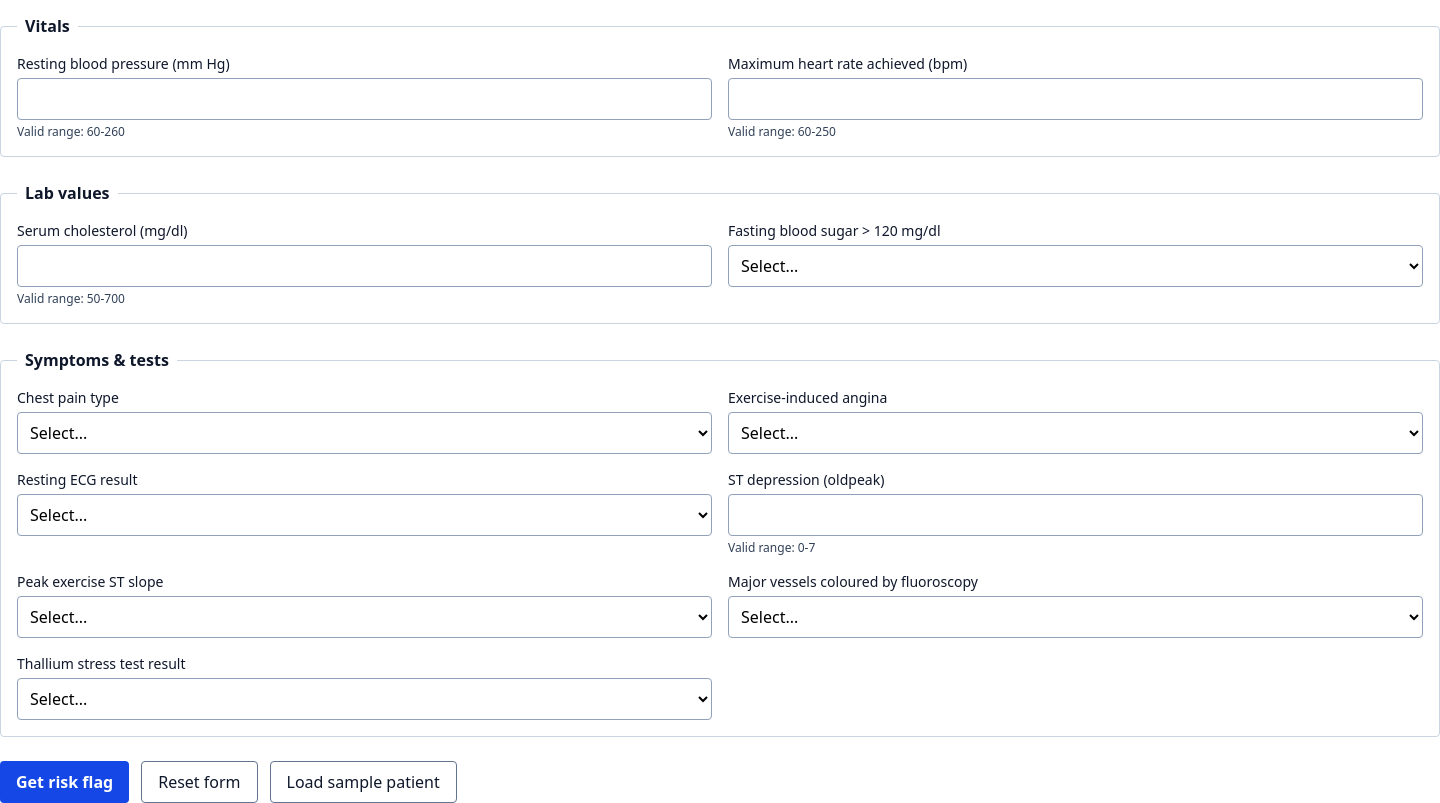
Scenario: ScorePage › when a value changes after submitting › shows the new result, without the hint, after submitting again
(page scrolled)
Click the button "Load sample patient". click: (363, 782)
box: [270,761,457,802]
(page scrolled)
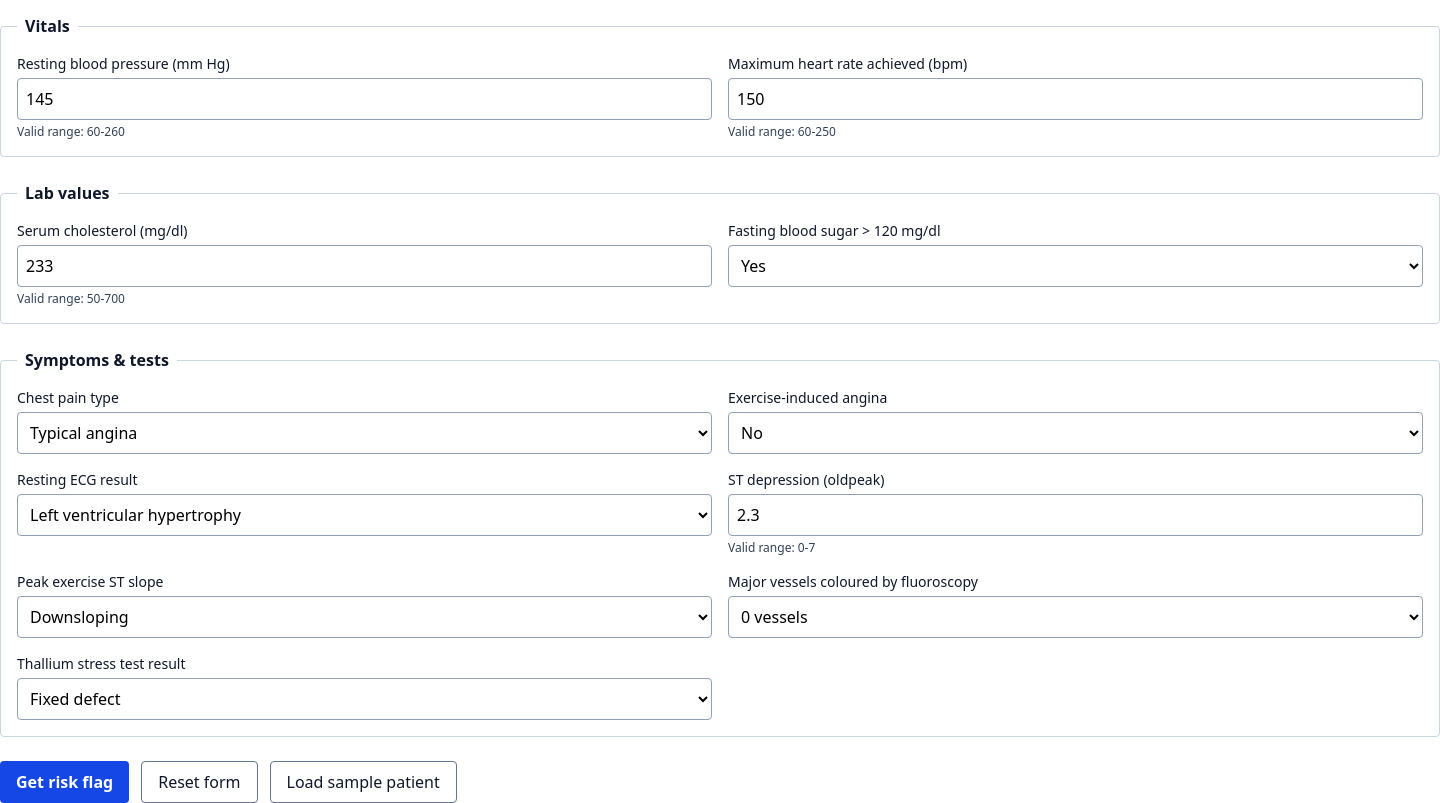
Click the button "Get risk flag". click: (65, 782)
box: [0,761,129,802]
(page scrolled)
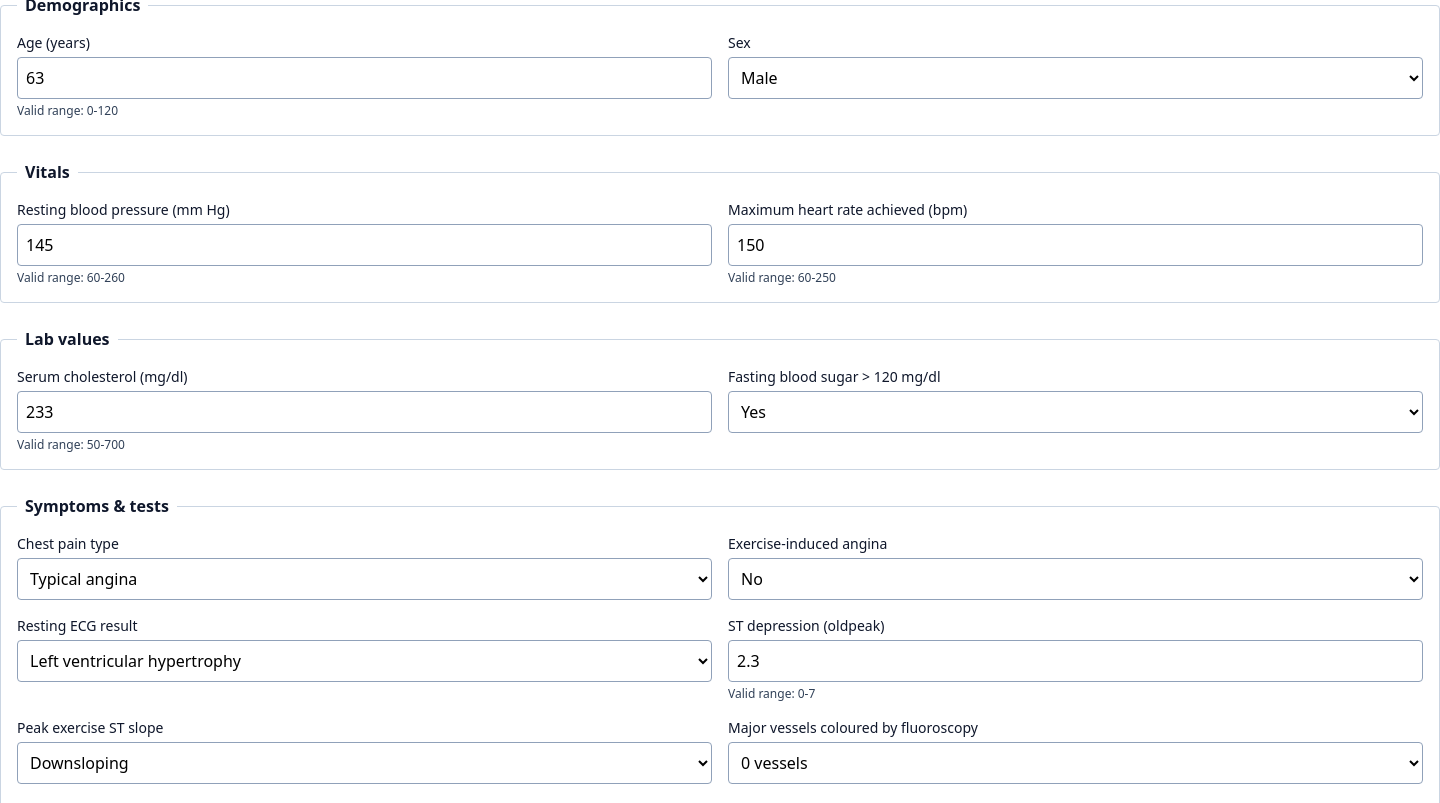
Replace the text in the number field labelled "Age (years)" with "50". click: (364, 78)
box: [17,57,712,99]
(page scrolled)
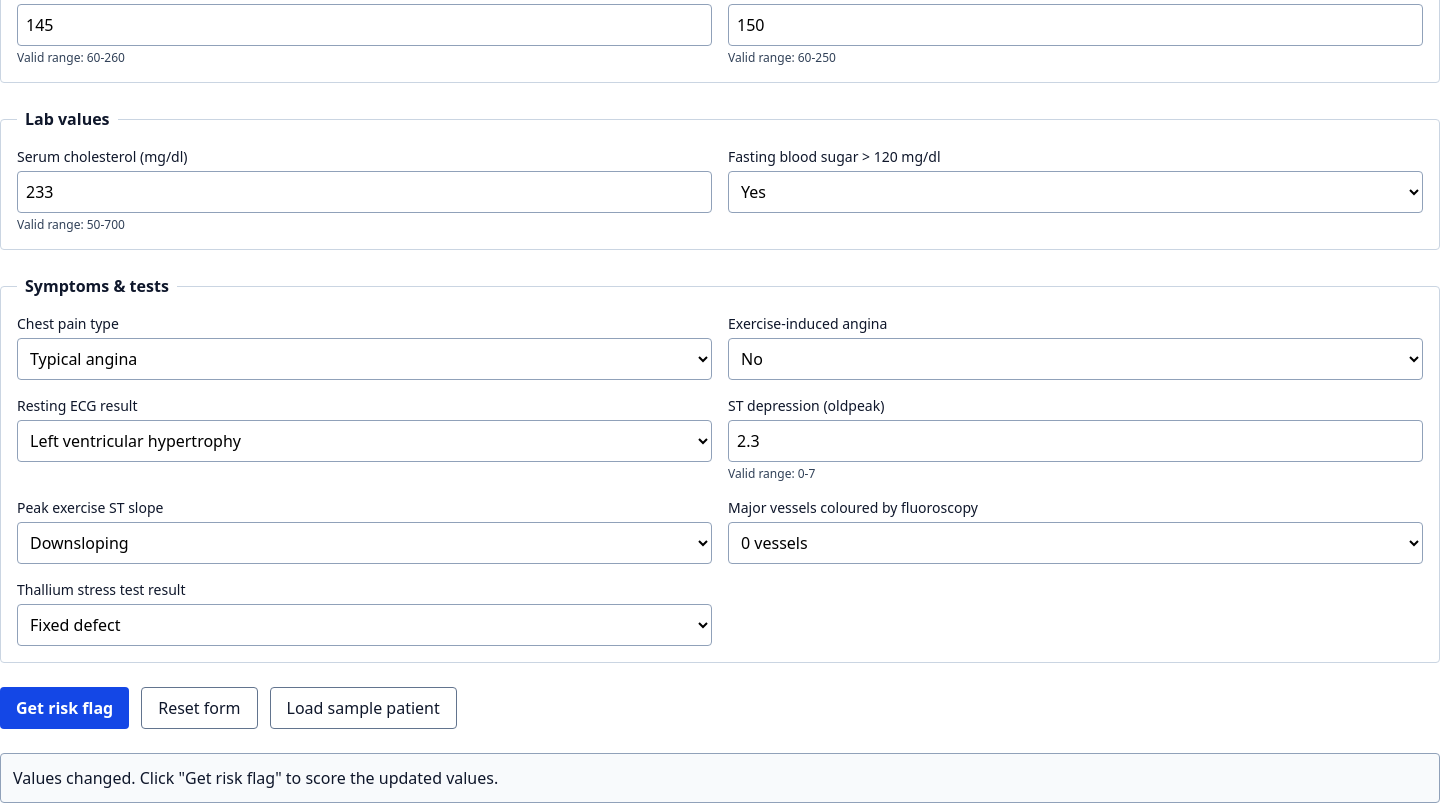
Click the button "Get risk flag". click: (65, 708)
box: [0,687,129,729]
(page scrolled)
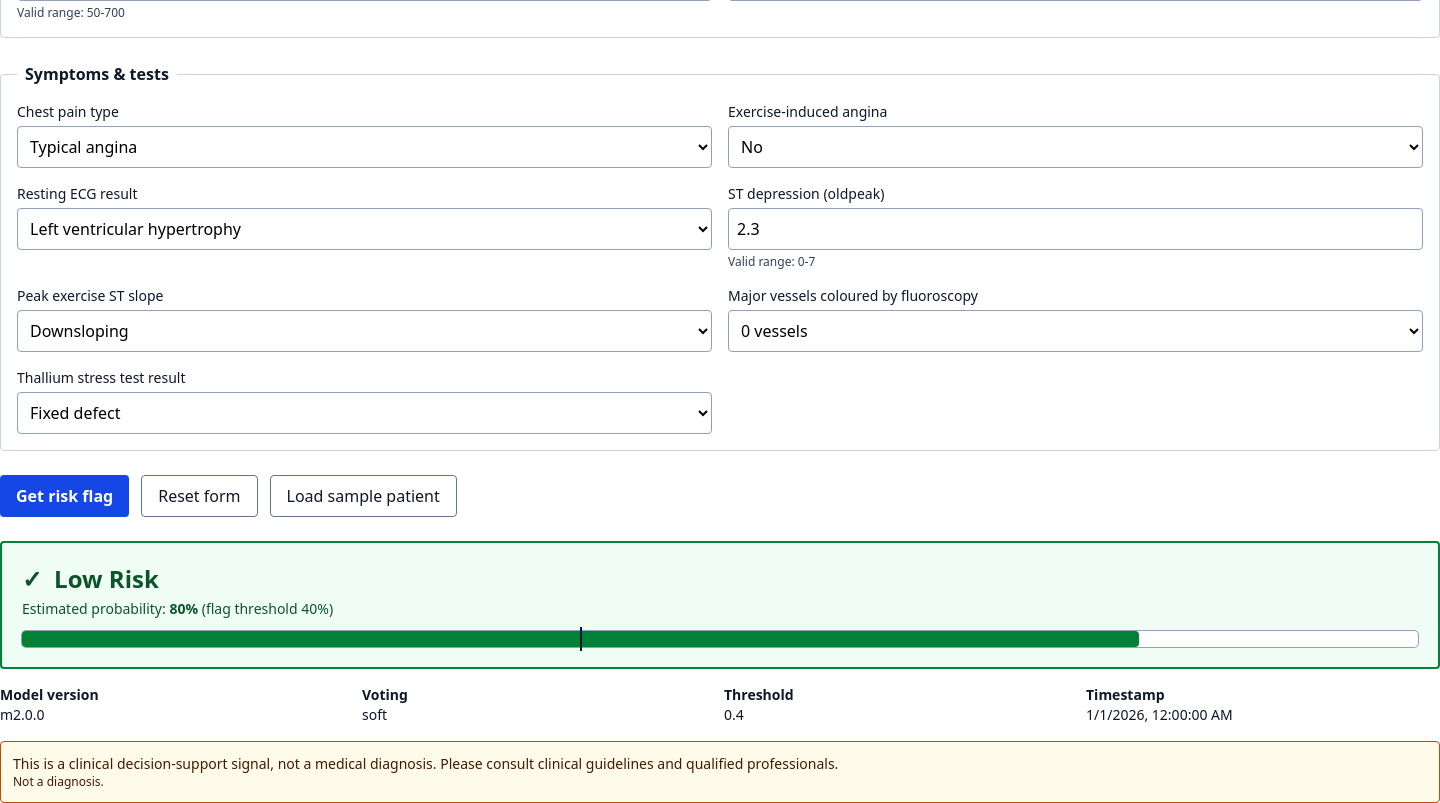
expect the text "Low Risk" is shown: met, box [54,563,159,595]
expect the text "Values changed" is gone: met
